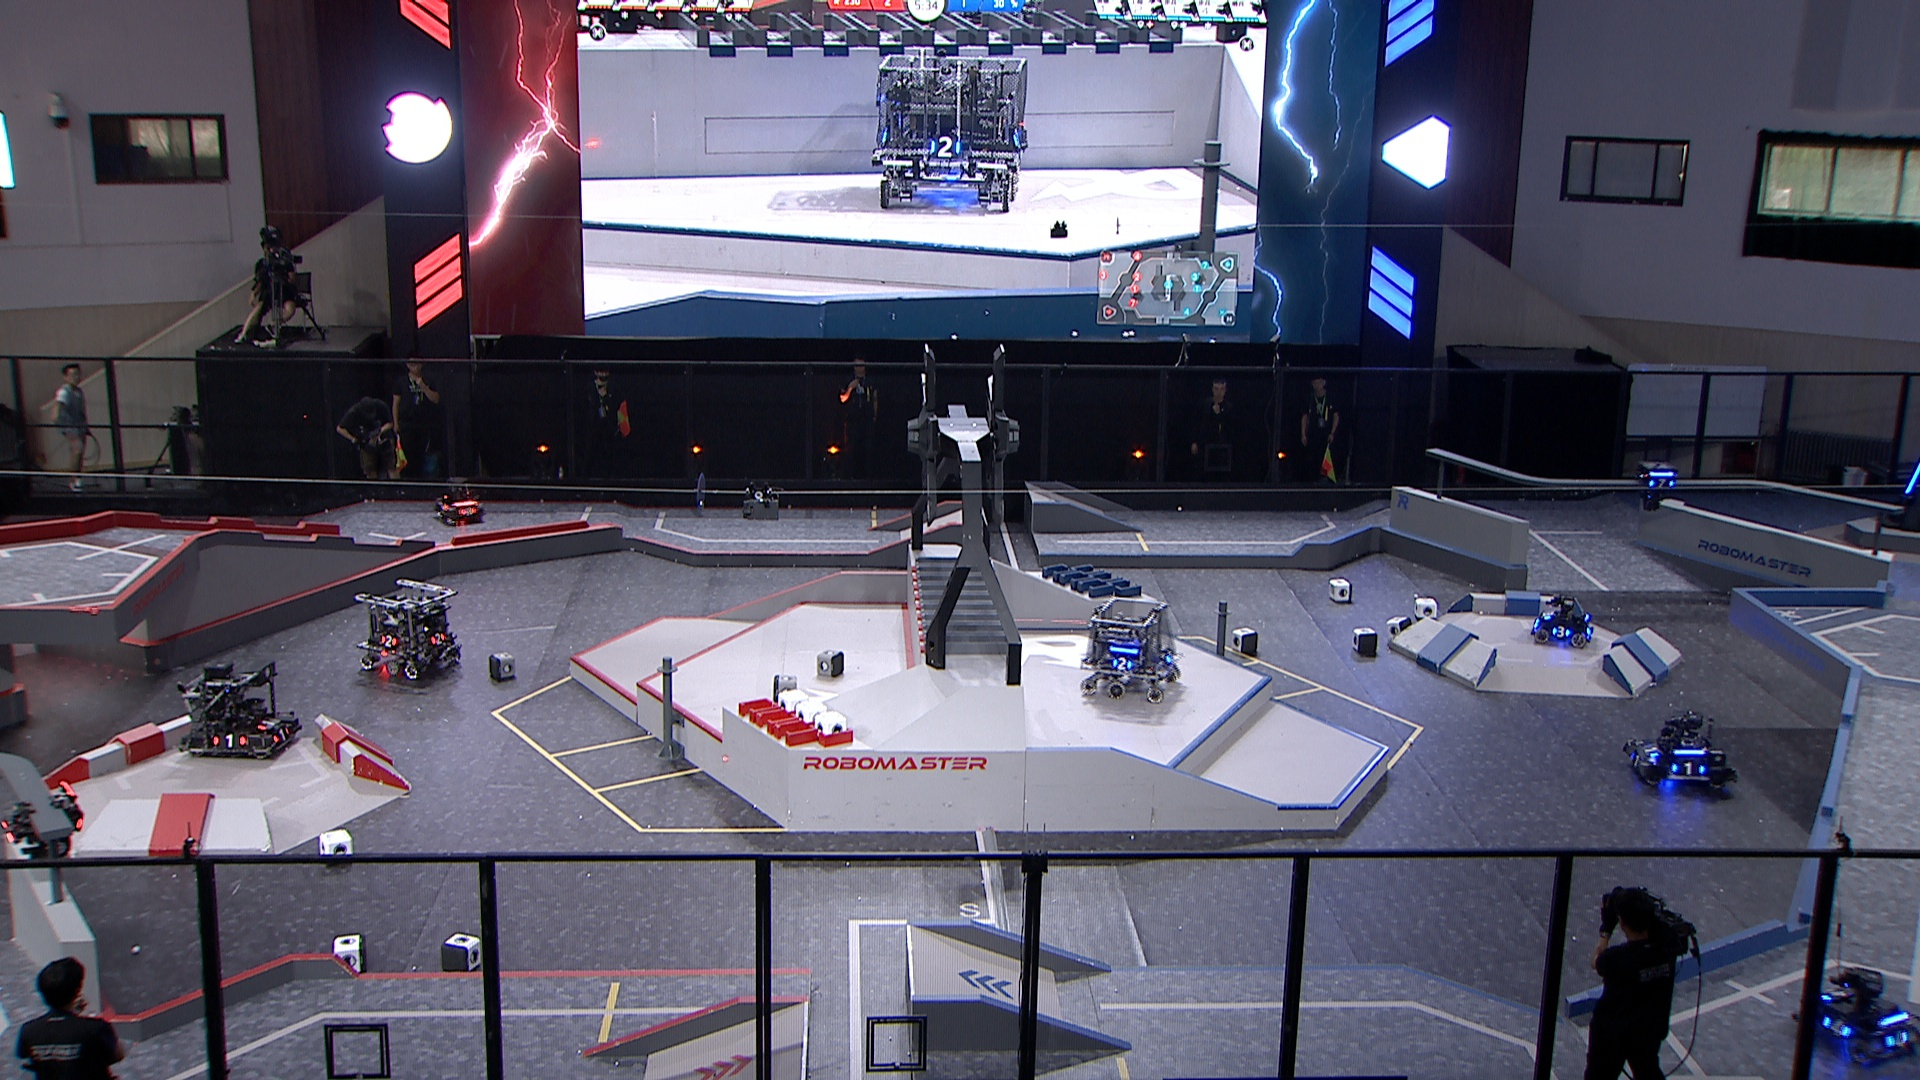armor: (1821, 1015, 1851, 1040), (212, 732, 249, 750), (1669, 760, 1709, 775), (1903, 463, 1920, 496), (1821, 986, 1847, 1006), (1, 820, 20, 847), (1887, 1031, 1913, 1048), (1110, 657, 1135, 674), (256, 716, 281, 732), (1648, 477, 1676, 491), (272, 727, 291, 744), (1642, 742, 1662, 760), (1629, 752, 1646, 771), (429, 632, 447, 647), (458, 505, 479, 517), (1552, 626, 1571, 640), (380, 636, 400, 647), (1164, 650, 1178, 665), (1543, 611, 1557, 622), (438, 501, 451, 513)
base: (1883, 448, 1920, 537)
car: (177, 659, 305, 760), (1792, 964, 1920, 1063), (1077, 597, 1185, 707), (357, 576, 462, 680), (1625, 711, 1741, 794), (1528, 593, 1596, 650), (434, 476, 491, 527)
ignore: (870, 50, 1031, 218)
watcher: (1, 779, 87, 864), (1633, 462, 1681, 509)
